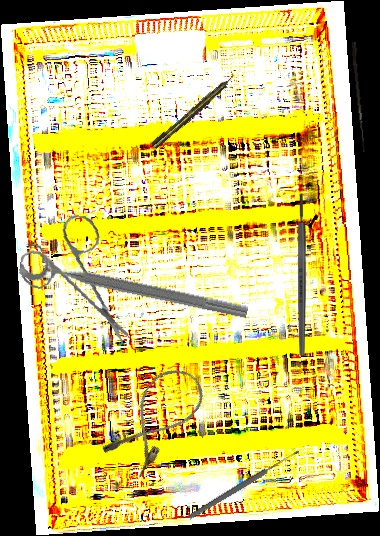Cannula: (98, 358, 213, 481)
Fixation Ring: (18, 238, 253, 326)
Handpiece: (149, 71, 239, 151)
Hook Surgical: (349, 41, 370, 153)
Iris Scissors: (11, 208, 146, 345)
Scalpel Handle: (297, 193, 306, 356)
Surgical Spoon: (187, 448, 301, 521)
